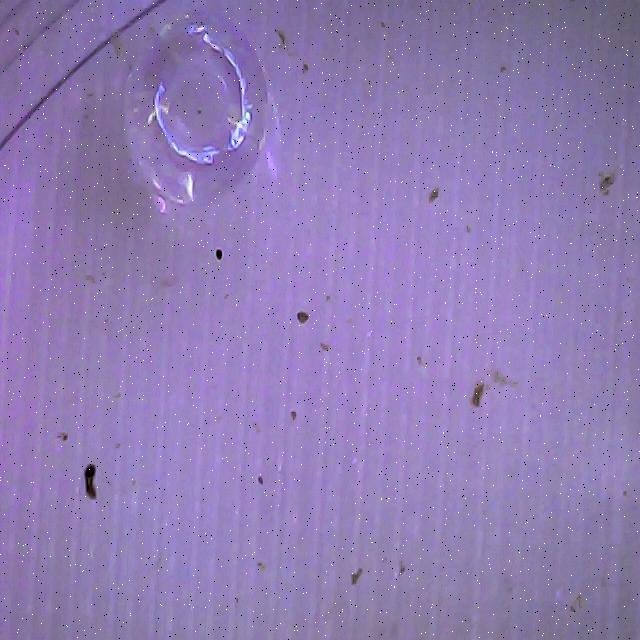beads: (124, 13, 267, 205)
